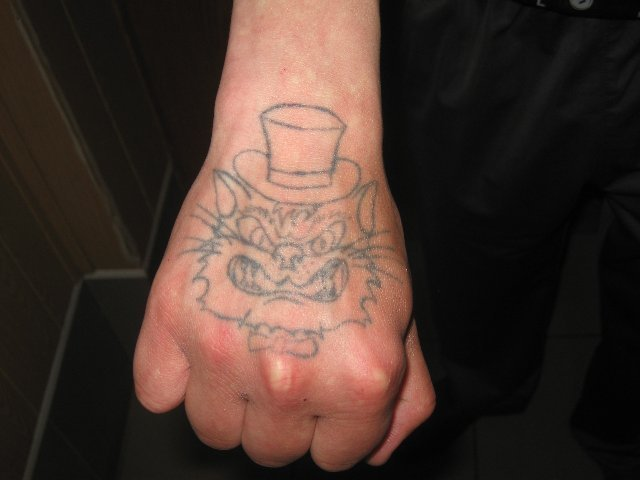tatu8_kot: (181, 99, 401, 347)
